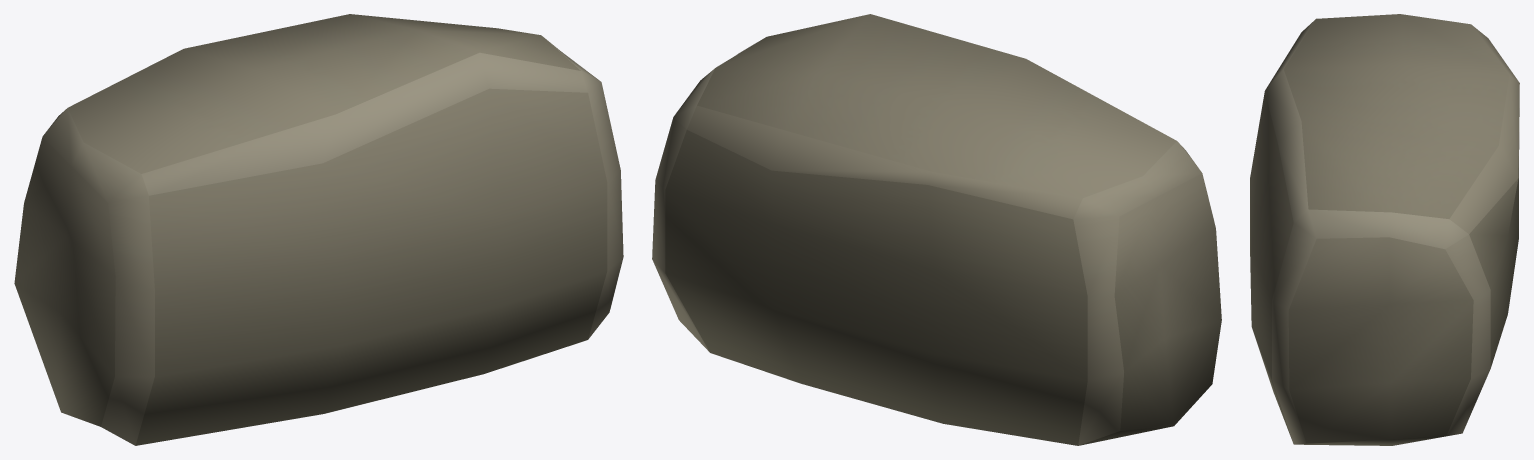
Rendered from orc_stone_mid.fbx.
The picture shows the model from 3 angles, left to right: view 1: azimuth 30°, elevation 25°; view 2: azimuth 150°, elevation 25°; view 3: azimuth 270°, elevation 25°; orthographic projection. The views are drawn at different scales.
Visible parts, largest first — view 1: orc_stone_mid; view 2: orc_stone_mid; view 3: orc_stone_mid.
Part boxes in pixels (x1,y1,x2,y2): orc_stone_mid: (14,14,623,445); orc_stone_mid: (652,14,1221,445); orc_stone_mid: (1250,14,1519,445).
Size of the model in its own units: 135 by 78.79 by 69.33.
